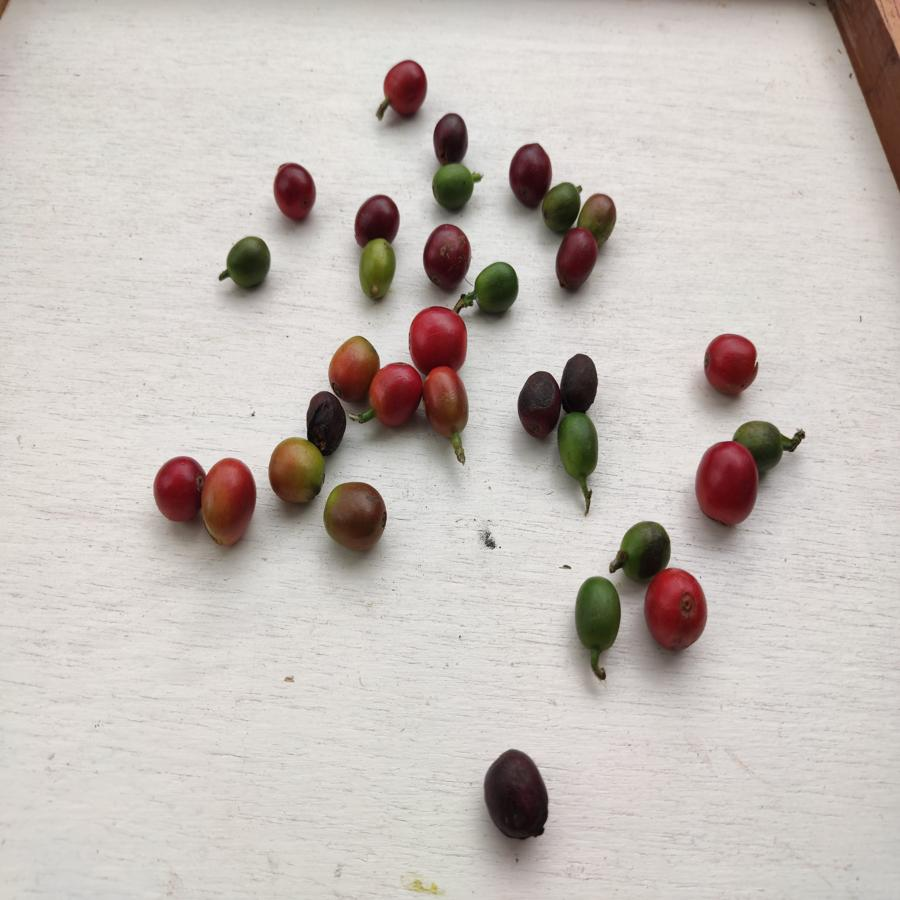Inmaduro: (573, 575, 624, 650), (555, 411, 606, 483), (612, 518, 672, 575), (225, 236, 274, 292), (470, 262, 522, 313), (431, 162, 479, 212), (545, 178, 582, 226), (733, 419, 798, 444)
Maduro: (698, 439, 762, 528), (197, 458, 259, 549), (645, 567, 709, 650), (423, 363, 479, 442), (704, 329, 762, 401), (150, 452, 201, 527), (410, 303, 466, 370), (370, 358, 423, 427), (328, 333, 378, 404)
Pinton: (319, 482, 392, 550), (266, 438, 327, 505), (358, 242, 402, 297), (579, 192, 618, 243)
Sobremaduro: (482, 748, 552, 846), (421, 225, 471, 288), (378, 61, 431, 119), (272, 159, 320, 222), (517, 370, 561, 438), (505, 137, 548, 205), (555, 229, 598, 292), (560, 352, 602, 412), (305, 388, 345, 450), (430, 112, 472, 165), (354, 194, 402, 239)
